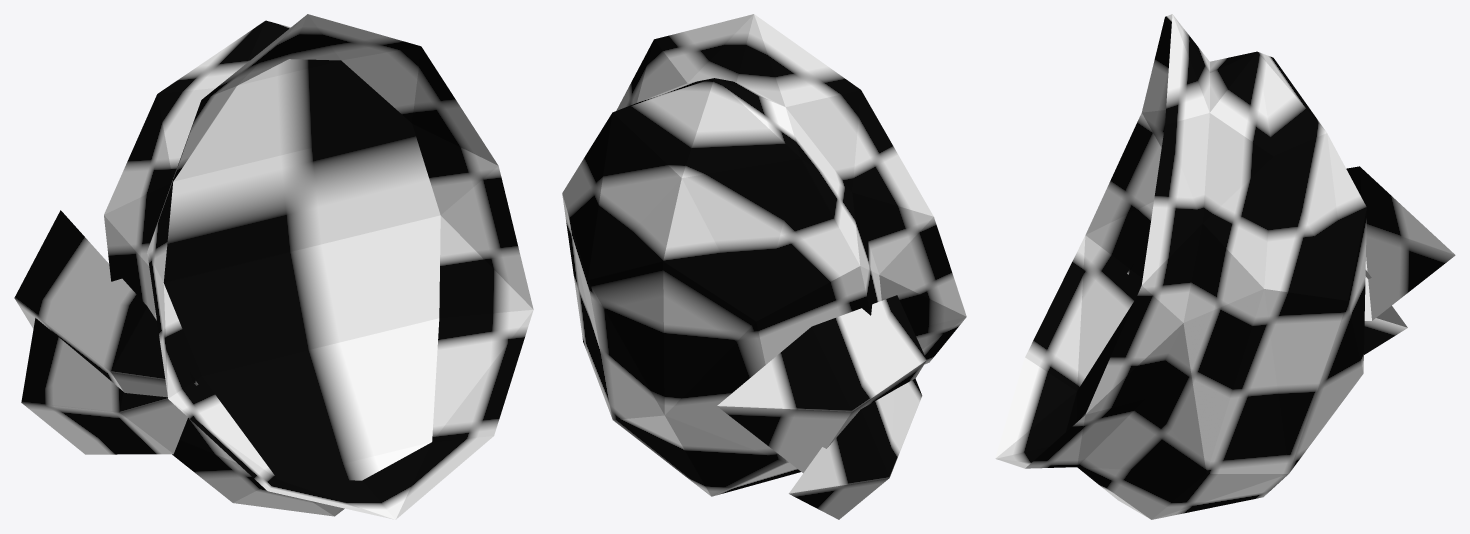
File: initarhl11.dae
3 views of the same model, side by side, from view 1: azimuth 30°, elevation 25°; view 2: azimuth 150°, elevation 25°; view 3: azimuth 270°, elevation 25° (orthographic). The views are drawn at different scales.
Visible parts, largest first — view 1: armor; view 2: armor; view 3: armor.
Boxes of the visible parts, x1,y1,x2,y2 form: armor: (14, 14, 533, 519); armor: (562, 14, 966, 519); armor: (995, 14, 1455, 519).
Size of the model in its own units: 1.04 by 1.04 by 1.21.
1 material, 1 textured.
